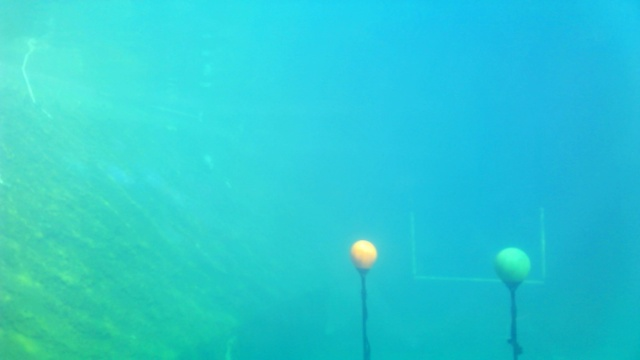buoy_green: (493, 244, 533, 297)
buoy_red: (348, 240, 379, 271)
